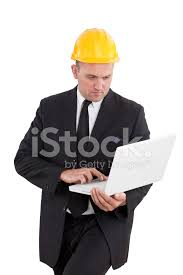Person_wearing_helmet: (66, 24, 123, 76)
